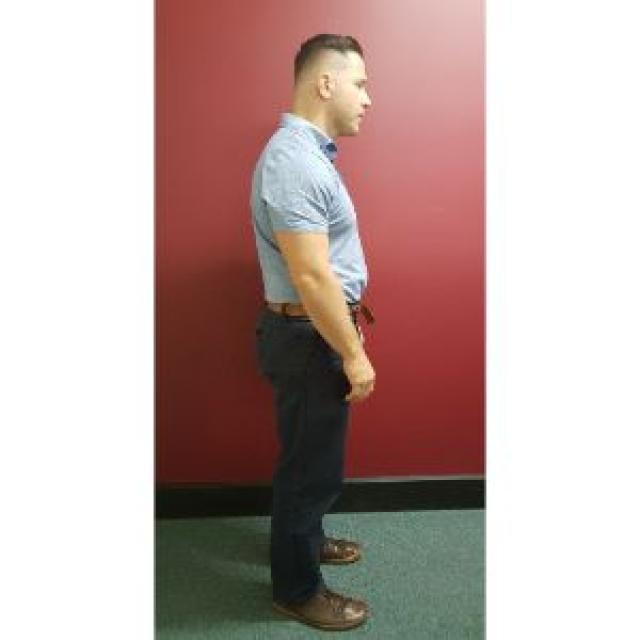adult: (228, 10, 428, 640)
